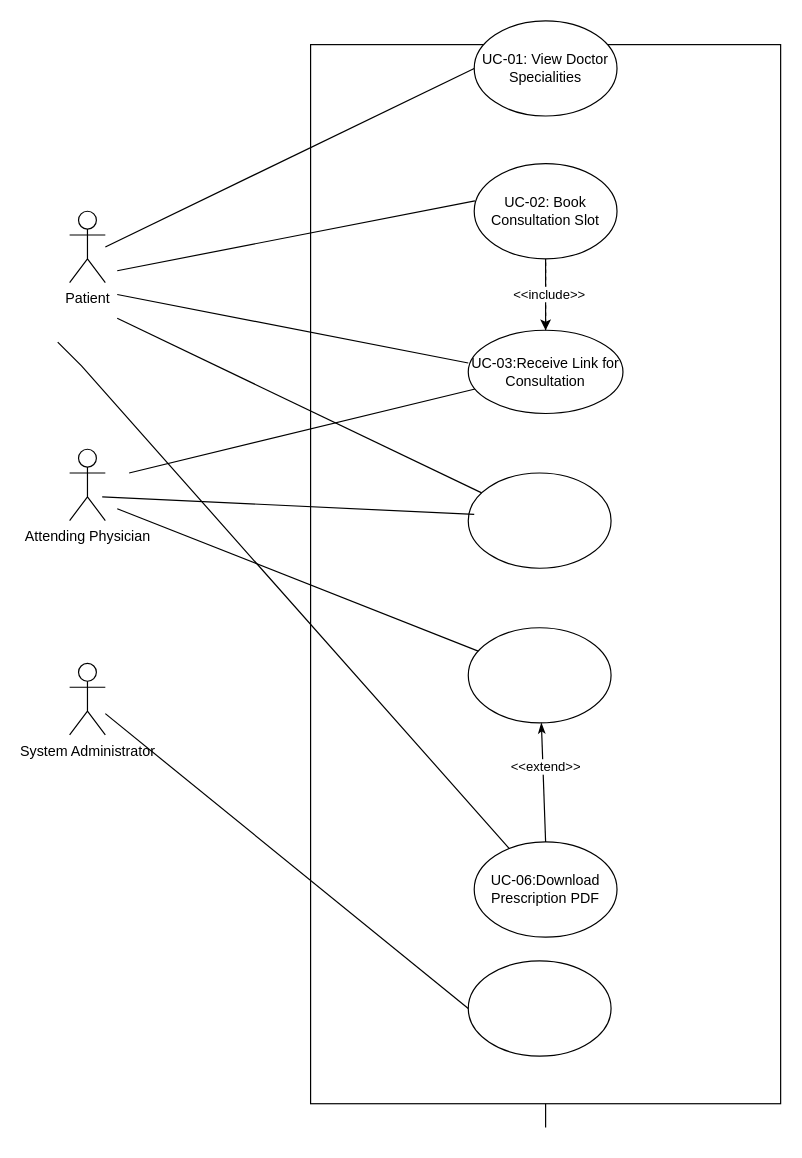
This 802x1158 diagram has some shape labels left out. The shapes that lost their labels are listed below. From the top down, each one's box as (x1, y1, x2, y2) in pixels, then its label:
(467, 472, 611, 568): UC-04: Conduct Consultation
(467, 627, 611, 723): UC-05: Author and Digitally Sign Prescription
(467, 960, 611, 1056): UC-07: Manage Availability and Profiles
